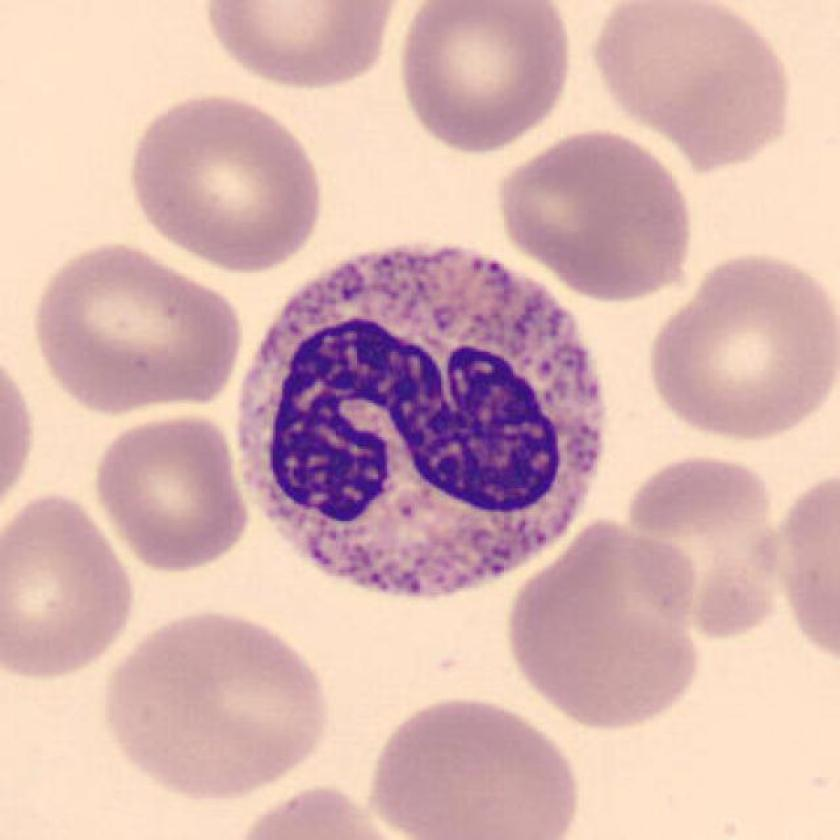neutrophil: (239, 248, 605, 593)
